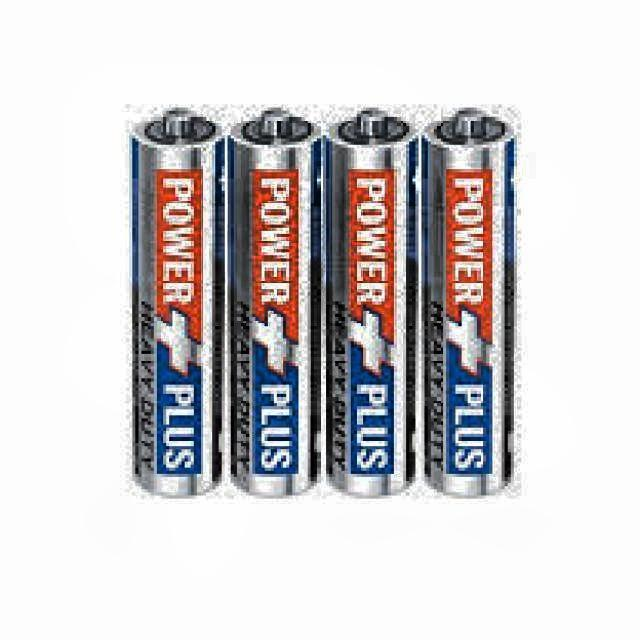battery: (129, 108, 225, 496), (229, 108, 323, 497), (421, 115, 516, 498)
